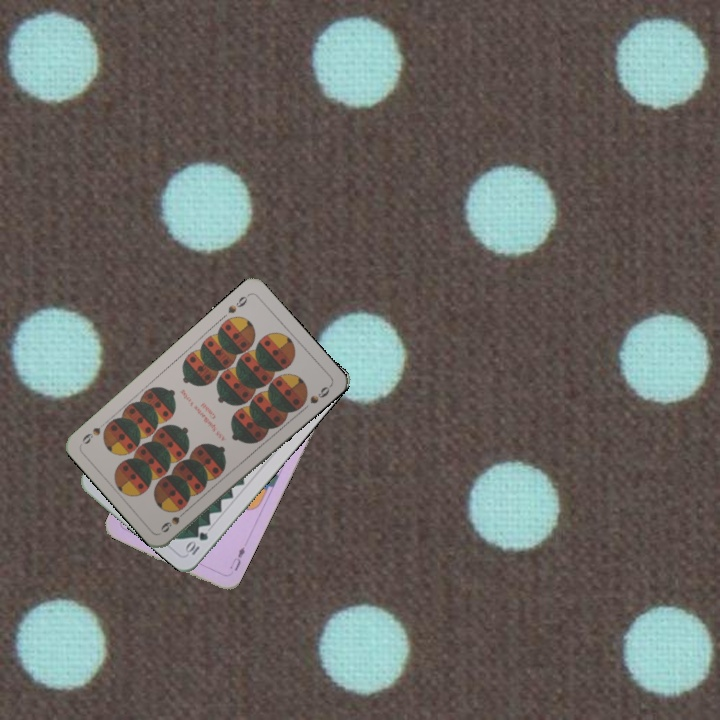EU: (226, 542, 248, 573)
G10: (181, 528, 211, 558)
S9: (156, 505, 191, 535), (224, 290, 252, 316)
